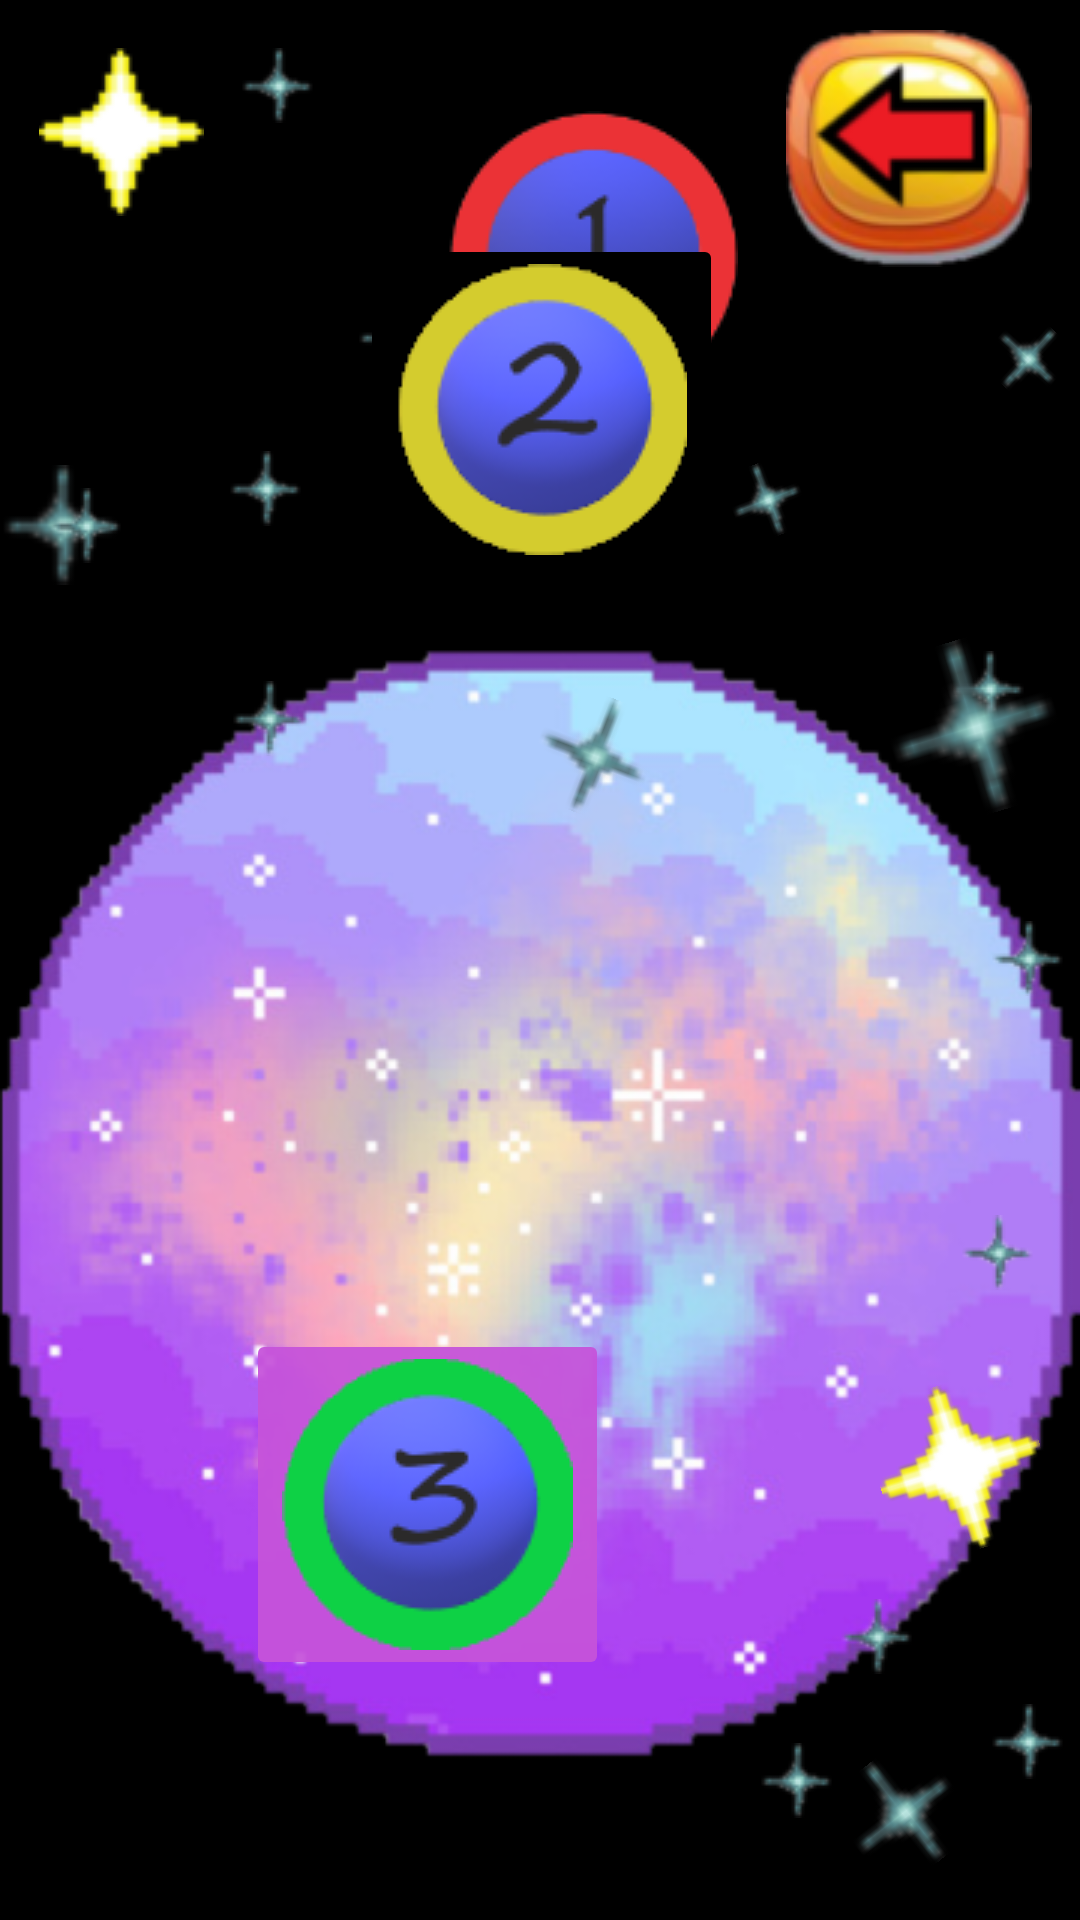

Named icons in this screenshot (1080*1920) and their bounding boxes, (x1, y1, x2, y2):
back: (786, 30, 1032, 265)
